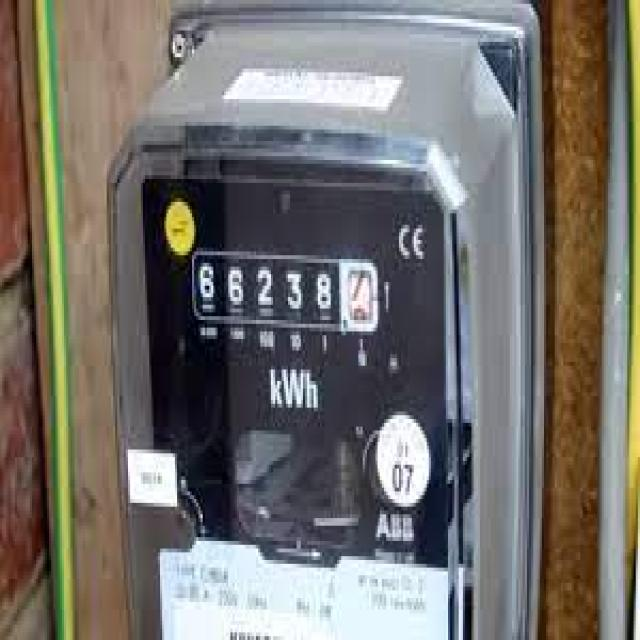2: (254, 256, 277, 313)
3: (284, 265, 308, 317)
6: (225, 261, 246, 310), (197, 261, 217, 309)
8: (314, 268, 335, 321)
analog meter: (190, 252, 394, 343)
